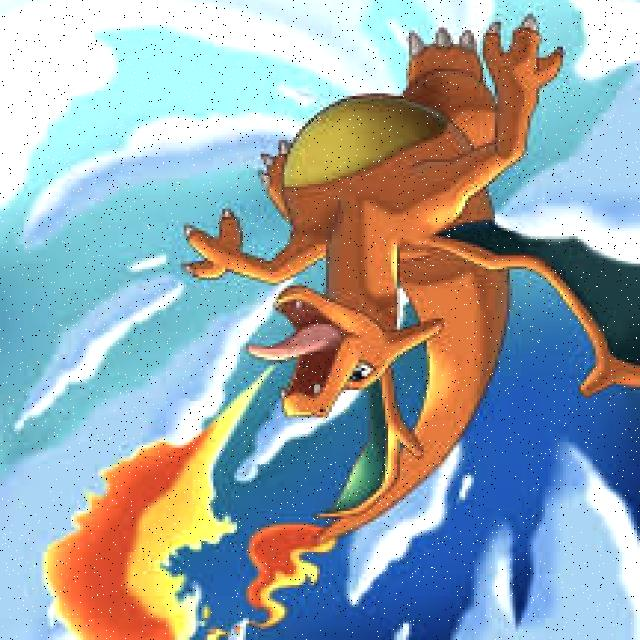charizard: (178, 22, 640, 634)
